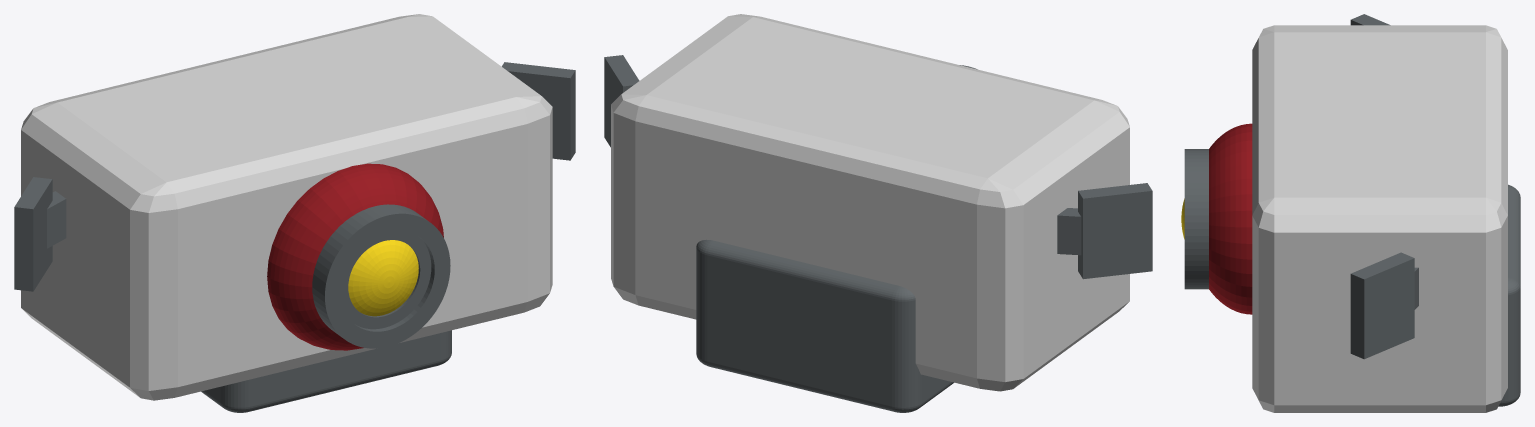
The model's file is RobotHead.FBX.
The picture shows the model from 3 angles, left to right: view 1: azimuth 30°, elevation 25°; view 2: azimuth 150°, elevation 25°; view 3: azimuth 270°, elevation 25°; orthographic projection. The views are drawn at different scales.
Parts seen in each view (by area): view 1: Object002; view 2: Object002; view 3: Object002.
Boxes of the visible parts, bbox=[...] form: Object002: bbox=[14, 14, 575, 412]; Object002: bbox=[604, 14, 1152, 412]; Object002: bbox=[1181, 14, 1520, 412].
Size of the model in its own units: 49.15 by 21.05 by 26.55.
